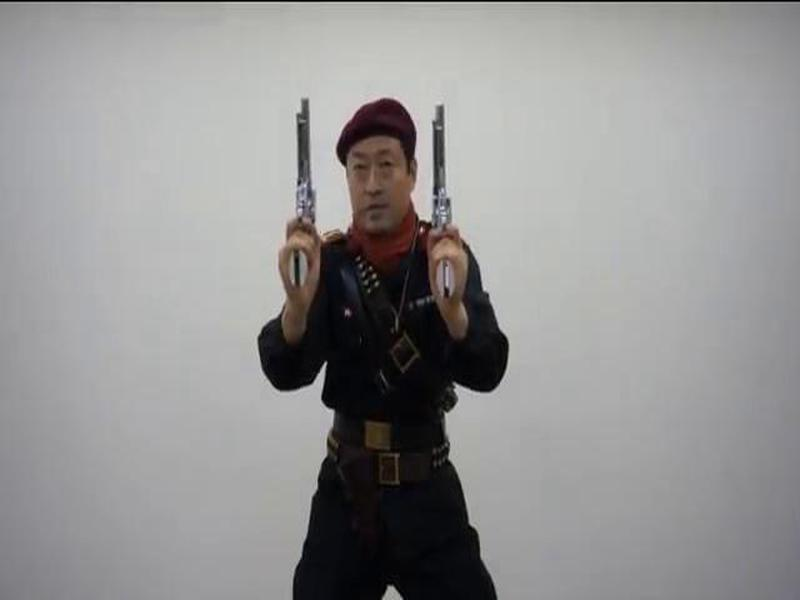Revolver: (426, 92, 476, 314), (274, 89, 327, 289)
